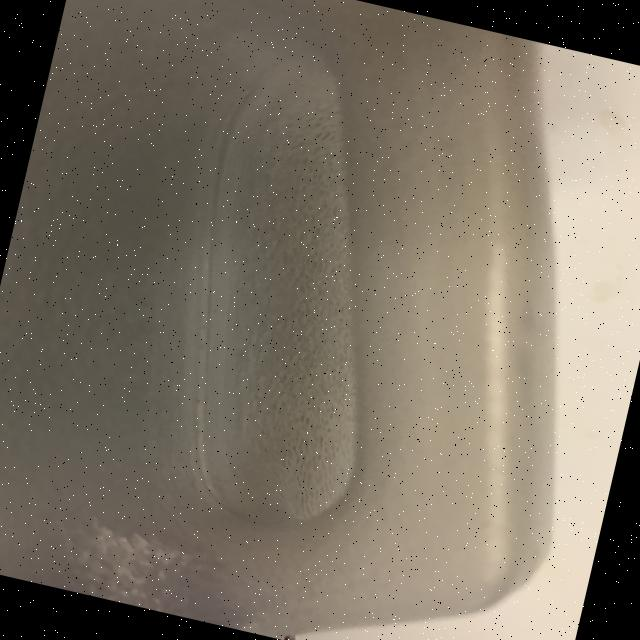plastic: (137, 36, 446, 540)
